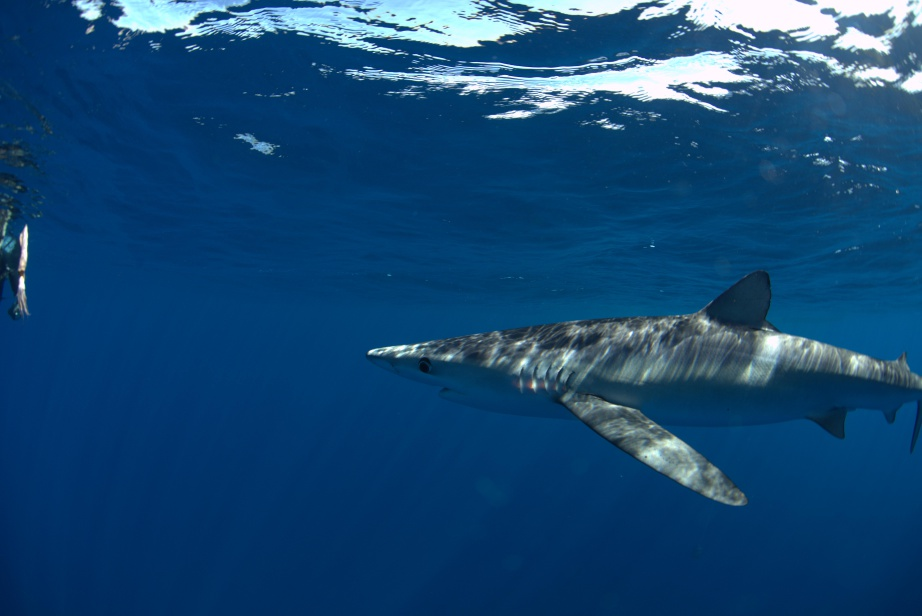Azul: (340, 253, 922, 510)
